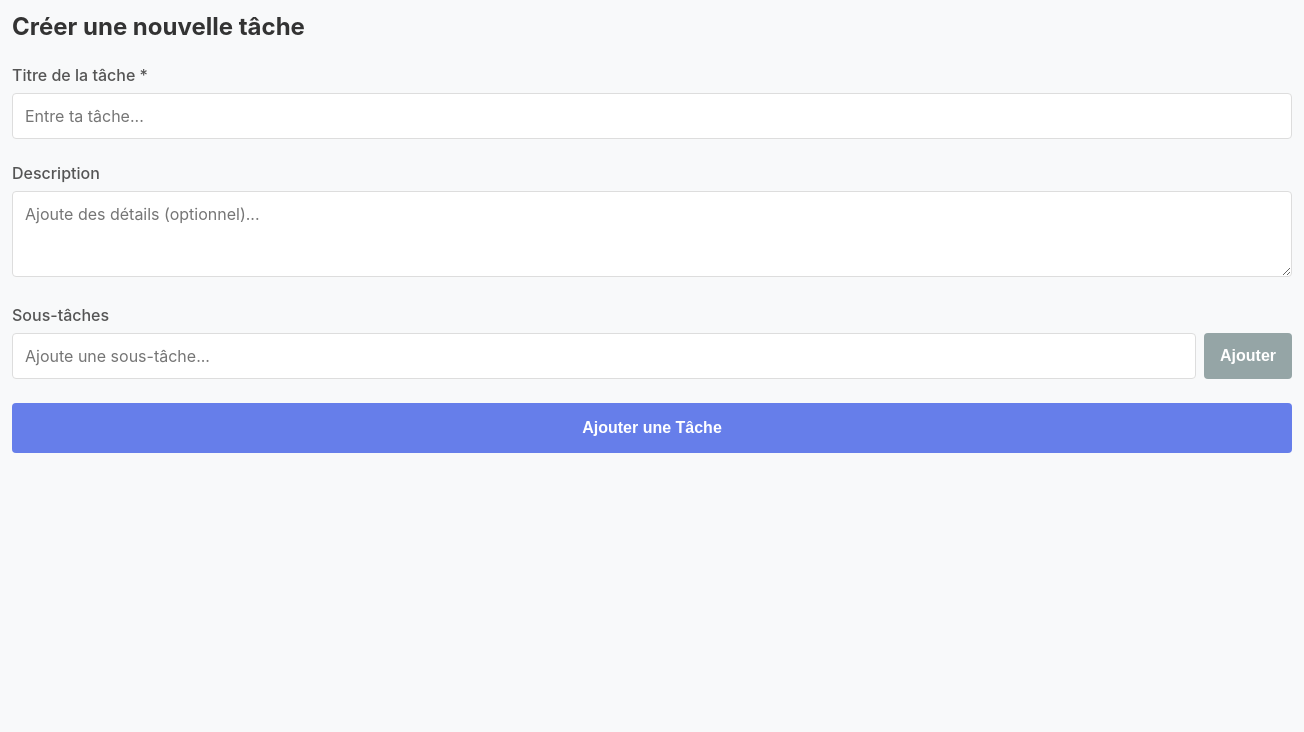
Test case: TaskForm Component › Subtasks Management › should remove a subtask when clicking delete button
The width and height of the screenshot is (1304, 732).
Type "Subtask 1" into the field with id "new-subtask". click: [604, 356]
box: x1=12 y1=333 x2=1196 y2=379
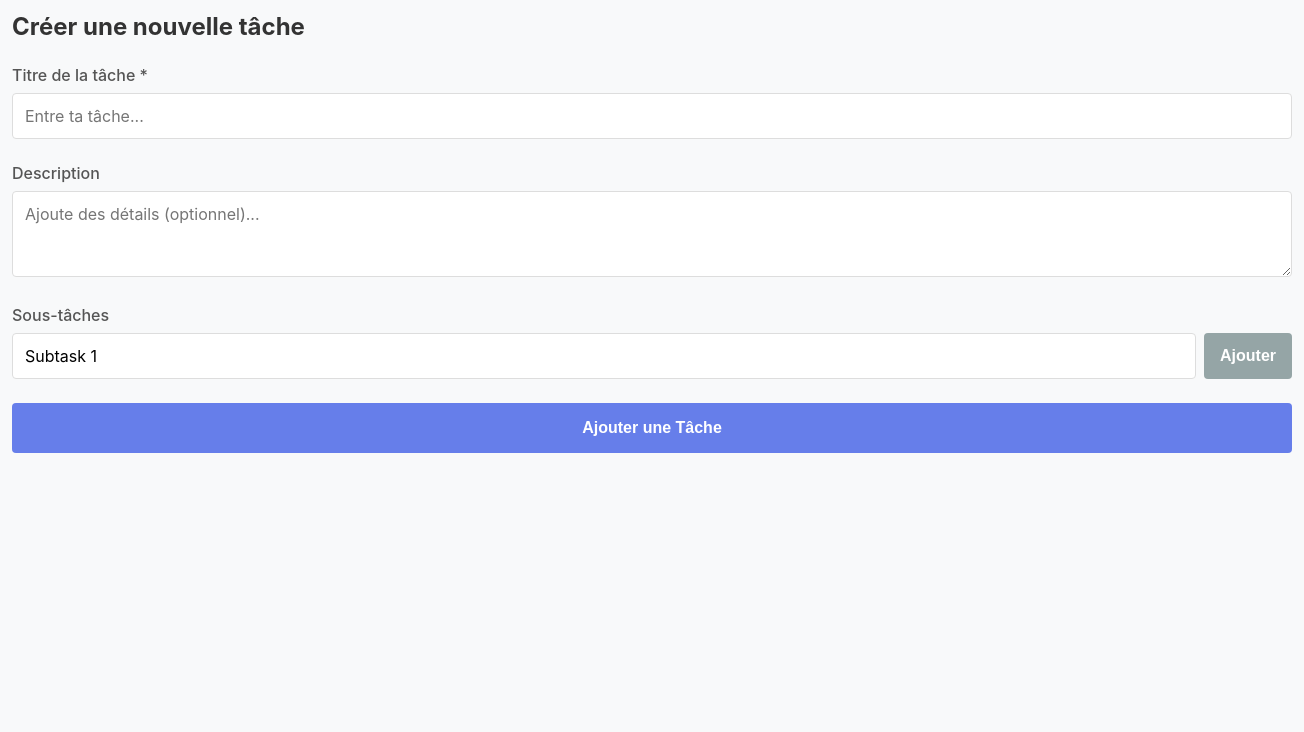
Click the button "Ajouter". click: [1248, 356]
box: x1=1204 y1=333 x2=1292 y2=379
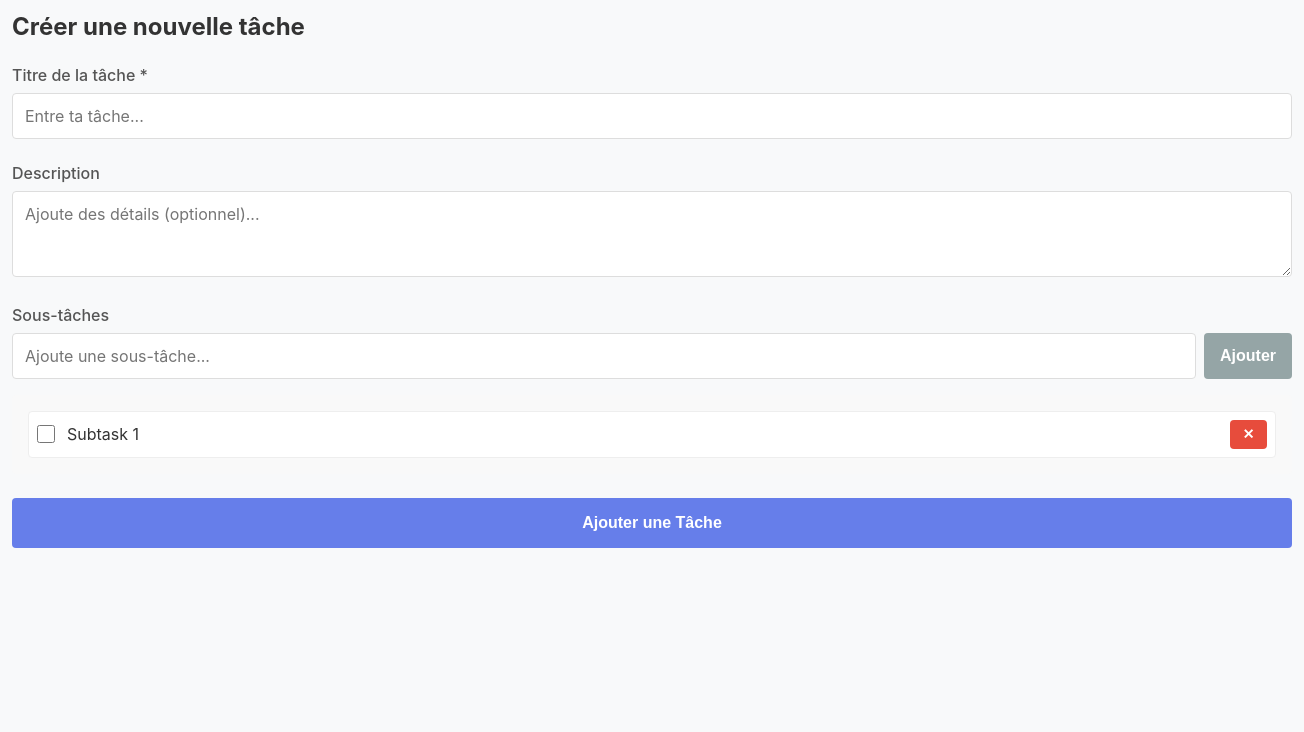
Expected: the number of list items with class "subtask-item" is 1, x1=28 y1=411 x2=1276 y2=458
Click the button with class "btn-danger". click: [1248, 434]
box: x1=1230 y1=420 x2=1267 y2=449
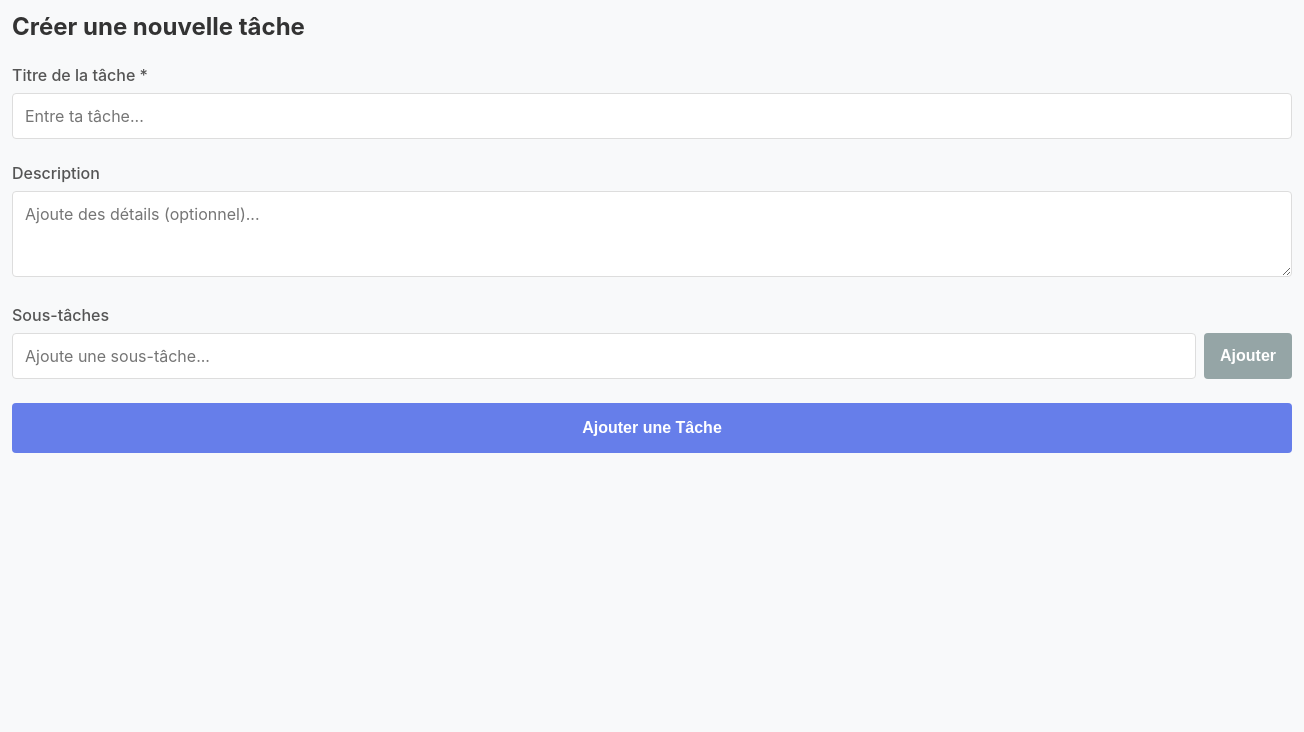
Expected: no list items with class "subtask-item" are shown
